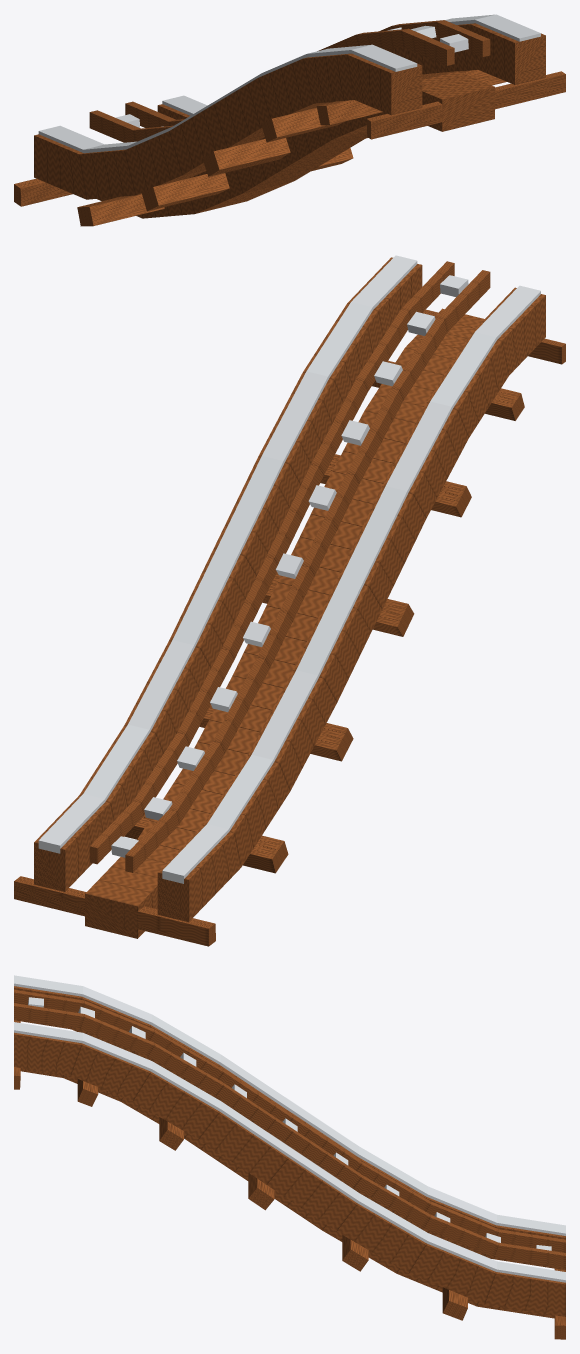
File: theme-park-rides-and-coasters-theme-park-rides-and-coa-081bc4c9__28649.glb
3 renders of one model, top to bottom at view 1: azimuth 30°, elevation 25°; view 2: azimuth 150°, elevation 25°; view 3: azimuth 270°, elevation 25°, orthographic. The views are drawn at different scales.
Parts seen in each view (by area): view 1: theme-park-rides-and-coasters-timber-lift-hill, chain; view 2: theme-park-rides-and-coasters-timber-lift-hill, chain; view 3: theme-park-rides-and-coasters-timber-lift-hill, chain.
Part boxes in pixels (<box>): theme-park-rides-and-coasters-timber-lift-hill: <box>14,14,565,226</box>; chain: <box>115,25,468,127</box>; theme-park-rides-and-coasters-timber-lift-hill: <box>14,255,565,946</box>; chain: <box>111,275,468,857</box>; theme-park-rides-and-coasters-timber-lift-hill: <box>14,975,565,1339</box>; chain: <box>28,997,551,1250</box>.
Size of the model in its own units: 1.26 by 2.5 by 4.
2 materials, 1 textured.
